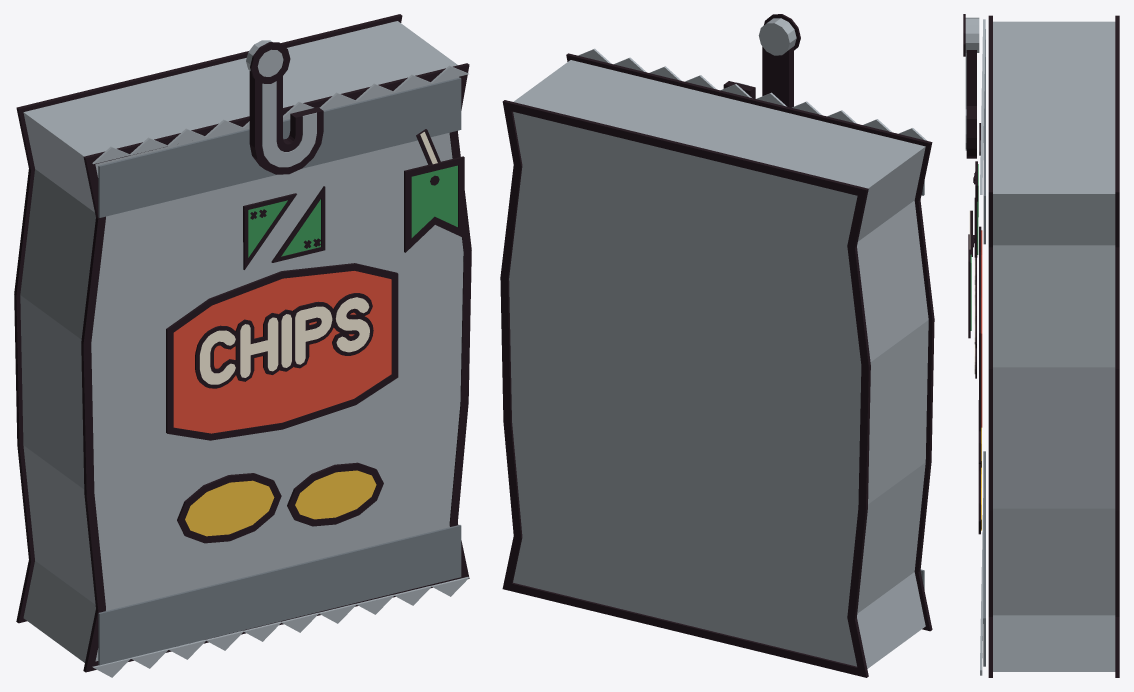
3 renders of one model, left to right at view 1: azimuth 30°, elevation 25°; view 2: azimuth 150°, elevation 25°; view 3: azimuth 270°, elevation 25°, orthographic. The views are drawn at different scales.
Parts seen in each view (by area): view 1: Bag Holders proposal; view 2: Bag Holders proposal; view 3: Bag Holders proposal.
Part boxes in pixels (x1,y1,x2,y2): Bag Holders proposal: (14,14,471,677); Bag Holders proposal: (500,14,934,677); Bag Holders proposal: (963,14,1119,677).
Bounding box in the file's own units: 0.6553 × 0.9778 × 0.2421.
